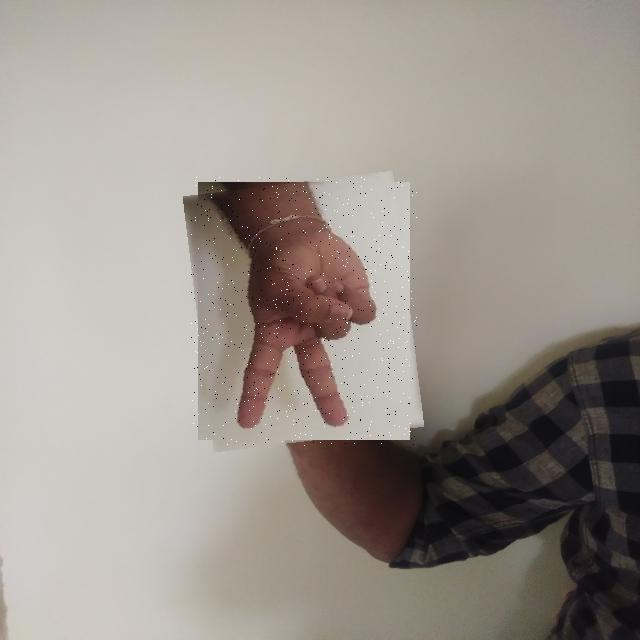No: (191, 177, 417, 446)
